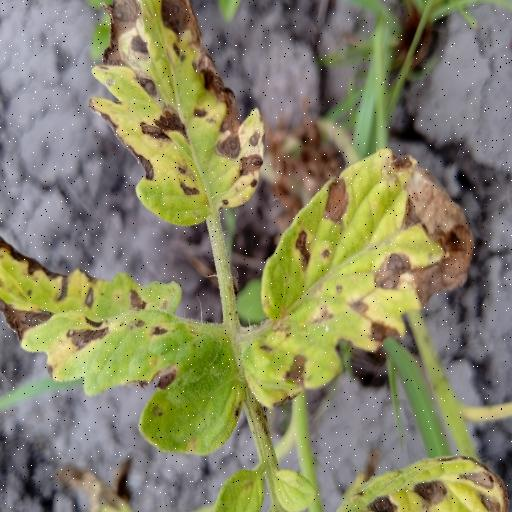Tomato_Brown_Spots: (252, 143, 472, 414), (0, 230, 249, 461), (86, 0, 268, 230)
